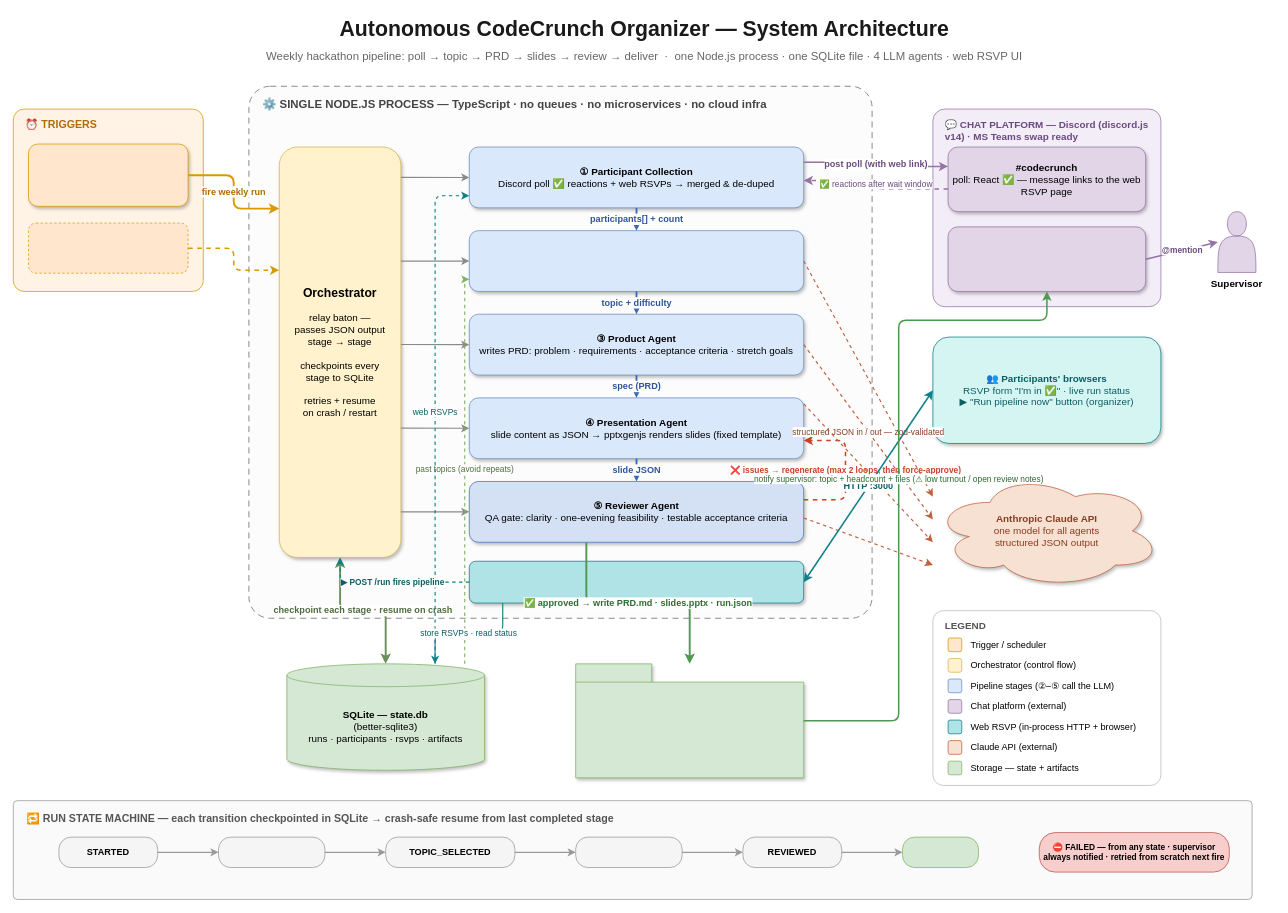
Some shapes in this 1288 by 913 pixel diagram are drawn without their labels. The centre of each missing label's shape, as x and y in pixels:
#codecrunch-ops supervisor summary + file attachments: (x=1047, y=260)
artifacts/YYYY-MM-DD/ 📄 PRD.md · 📊 slides.pptx 🧾 run.json (full pipeline trace): (x=690, y=721)
COLLECTED: (x=271, y=852)
node-cron 0 9 * * 2 — Tuesday 09:00 idempotent: skips if today's run is DONE: (x=109, y=176)
RUN_NOW=true npm start demo mode — fire immediately: (x=108, y=247)
SPEC_READY: (x=628, y=852)
② Idea Agent picks a fresh topic + difficulty based on headcount: (x=637, y=262)
✅ DONE: (x=940, y=852)
🌐 HTTP server (web.ts) — serves RSVP page · /api/status · /rsvp · /run: (x=637, y=582)
